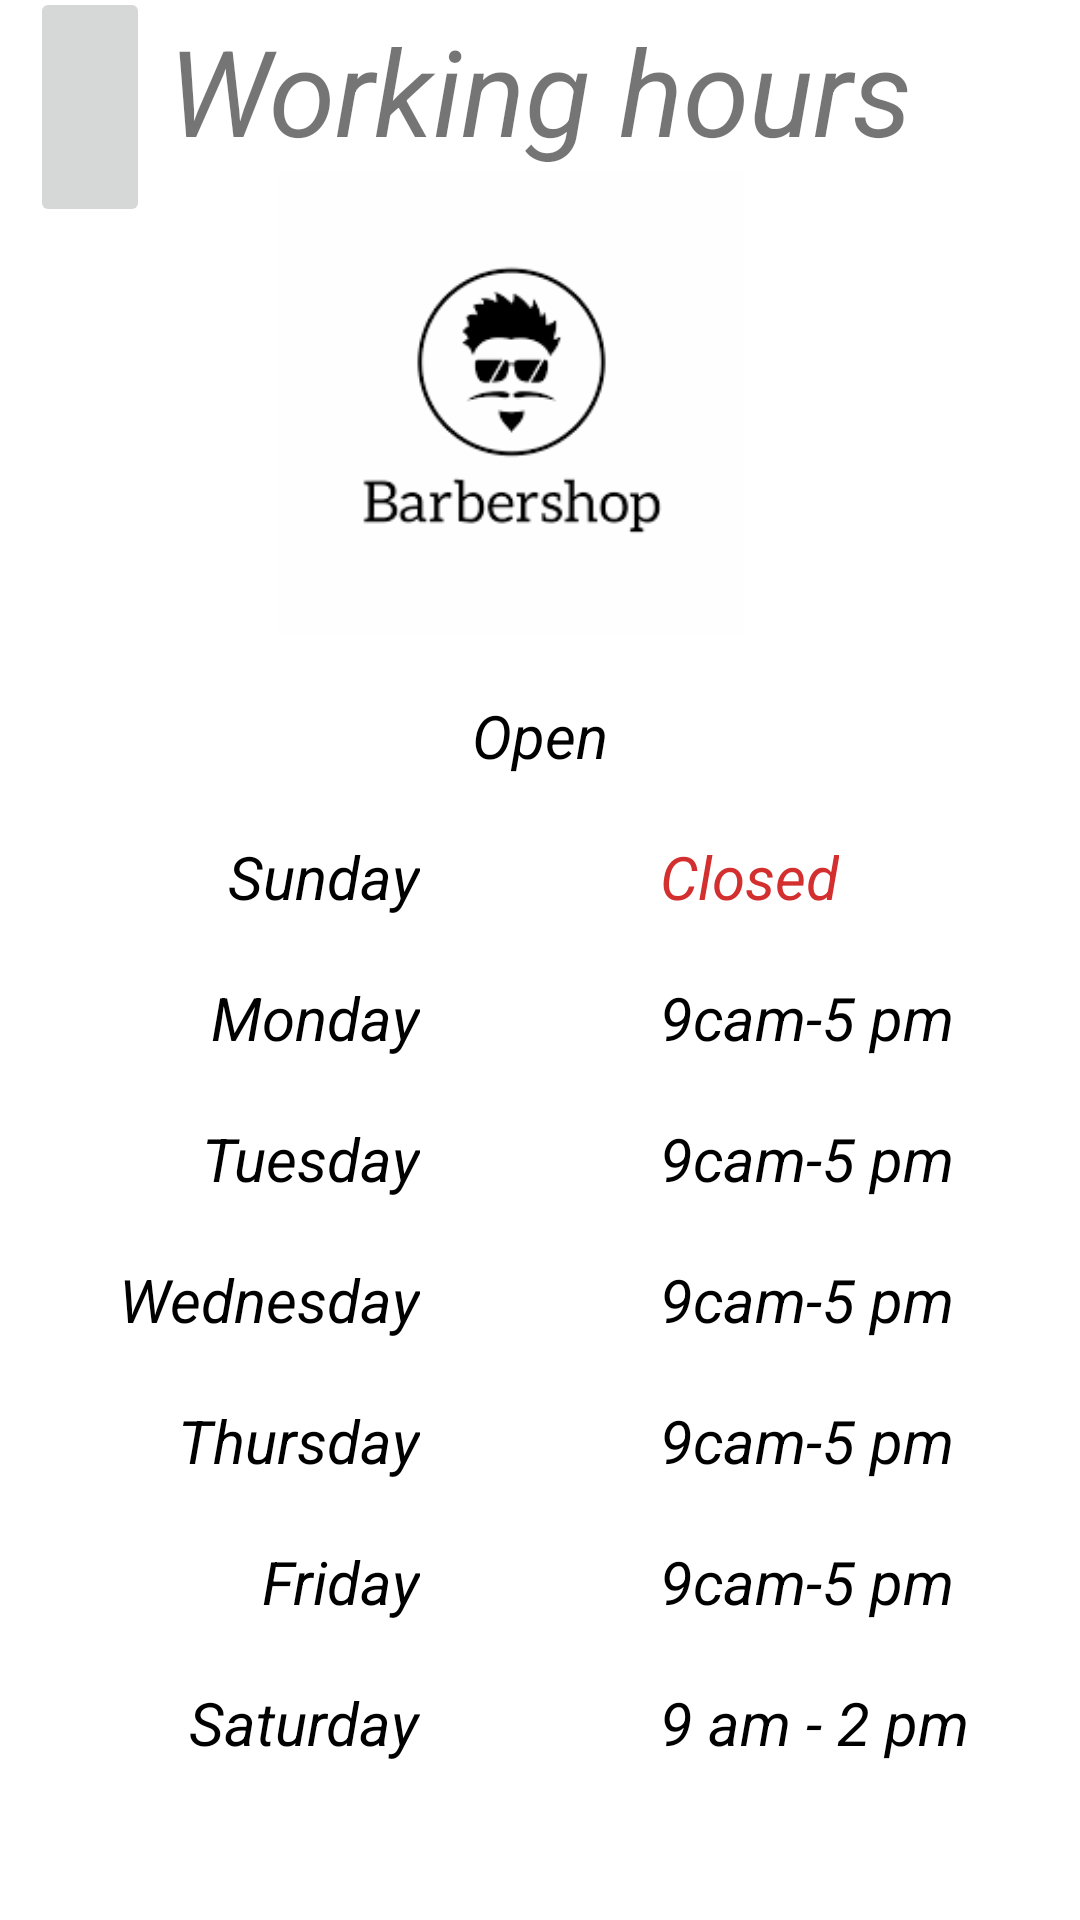

Icon bounding boxes for this 1080px×1920px phone screenshot, format (x1, y1, x2, y2):
Salon Img: (363, 267, 661, 533)
